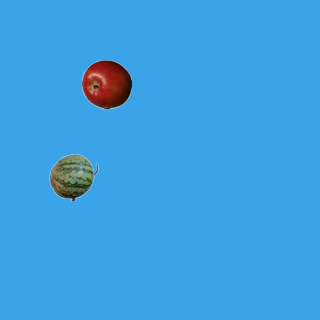Apple Braeburn: (81, 59, 131, 109)
Watermelon: (48, 152, 98, 202)
